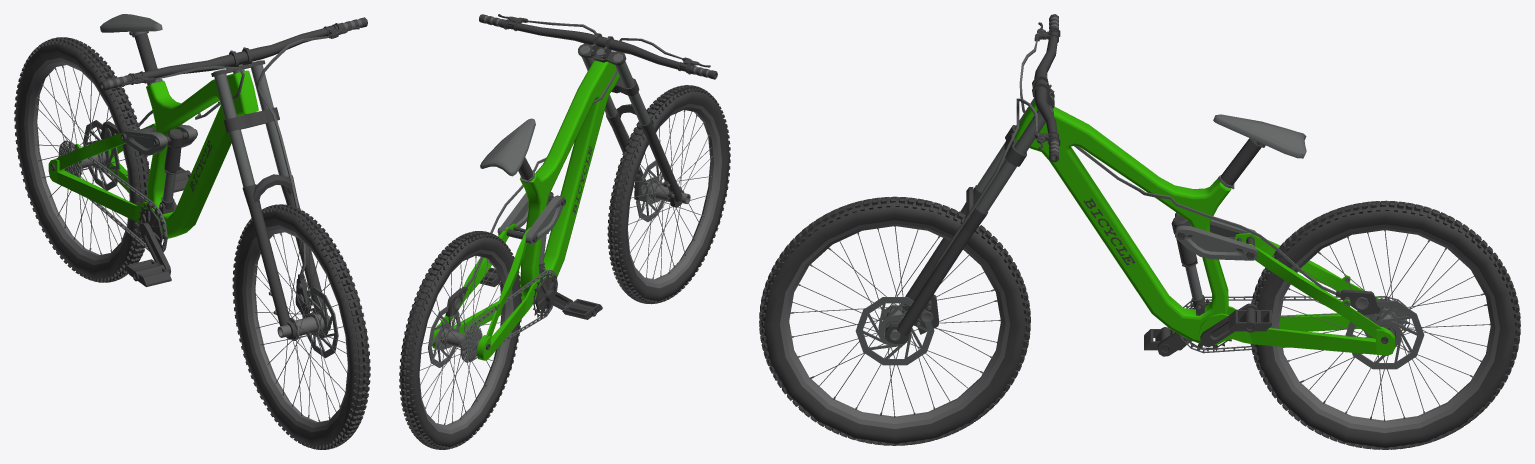
File: Low-Poly Bicycle # 5.FBX
3 renders of one model, left to right at view 1: azimuth 30°, elevation 25°; view 2: azimuth 150°, elevation 25°; view 3: azimuth 270°, elevation 25°, orthographic. The views are drawn at different scales.
Parts seen in each view (by area): view 1: Wheel_F, Body, Wheel_B, Steer, Pedal, Pedal_R; view 2: Body, Wheel_B, Wheel_F, Steer, Pedal, Pedal_R; view 3: Body, Wheel_F, Wheel_B, Steer, Pedal, Pedal_L.
Part boxes in pixels (x1,y1,x2,y2): Wheel_F: (232,204,370,449); Body: (48,14,311,318); Wheel_B: (14,37,149,282); Steer: (100,17,367,339); Pedal: (138,200,176,274); Pedal_R: (126,259,171,286); Body: (432,60,648,362); Wheel_B: (399,231,522,449); Wheel_F: (607,85,730,304); Steer: (465,14,717,287); Pedal: (498,271,572,318); Pedal_R: (562,299,602,319); Body: (917,101,1409,355); Wheel_F: (759,196,1030,445); Wheel_B: (1250,200,1520,449); Steer: (885,14,1336,343); Pedal: (1157,299,1258,356); Pedal_L: (1229,307,1271,332).
Size of the model in its own units: 117 by 270 by 144.
Materials: 3 (1 with a texture image).
